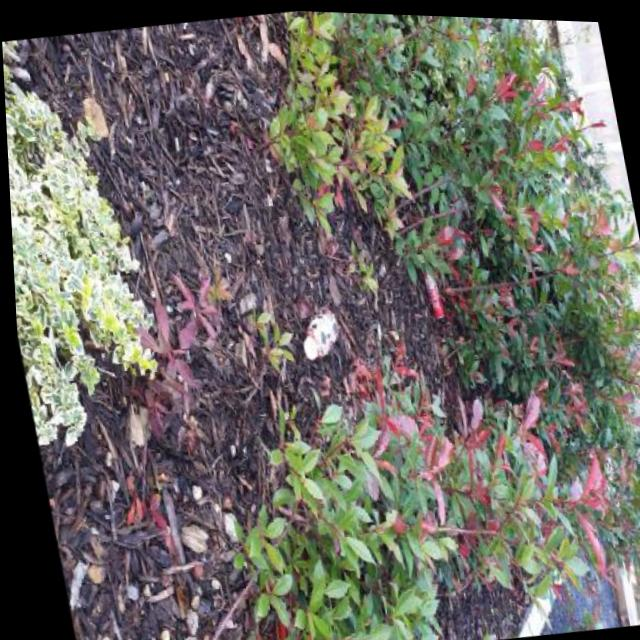plastic: (296, 304, 343, 363)
